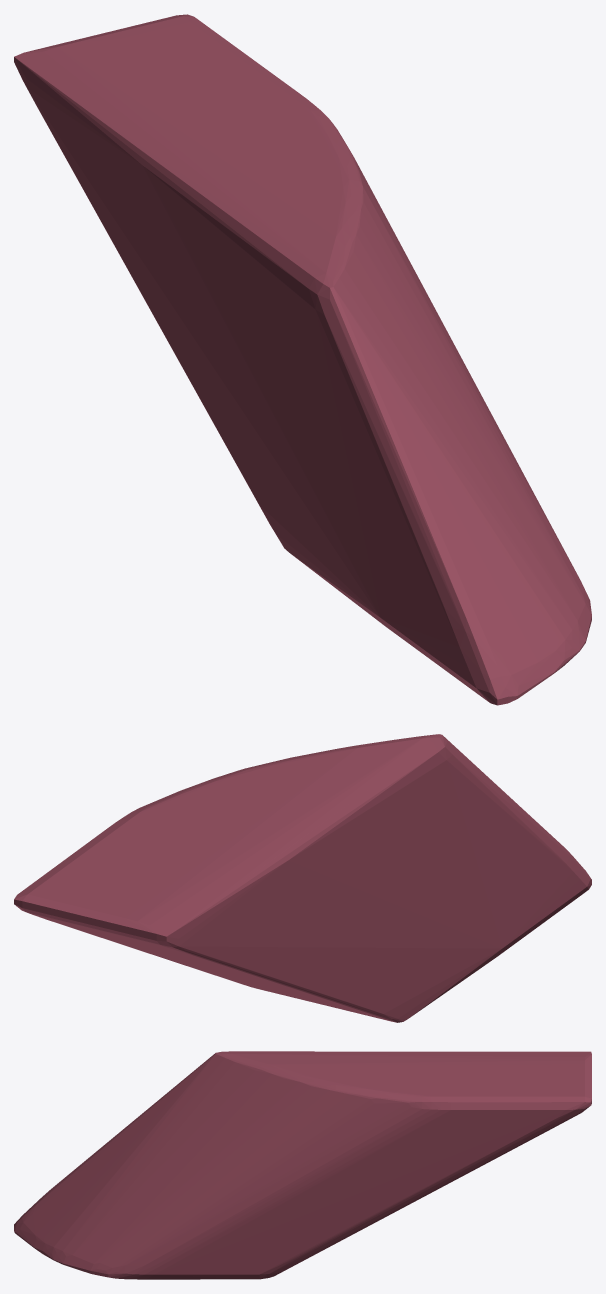
Rendered from left-toe-roll-0_part_13.obj.
3 renders of one model, top to bottom at view 1: azimuth 30°, elevation 25°; view 2: azimuth 150°, elevation 25°; view 3: azimuth 270°, elevation 25°, orthographic. The views are drawn at different scales.
Size of the model in its own units: 0.0226 by 0.0347 by 0.1002.
